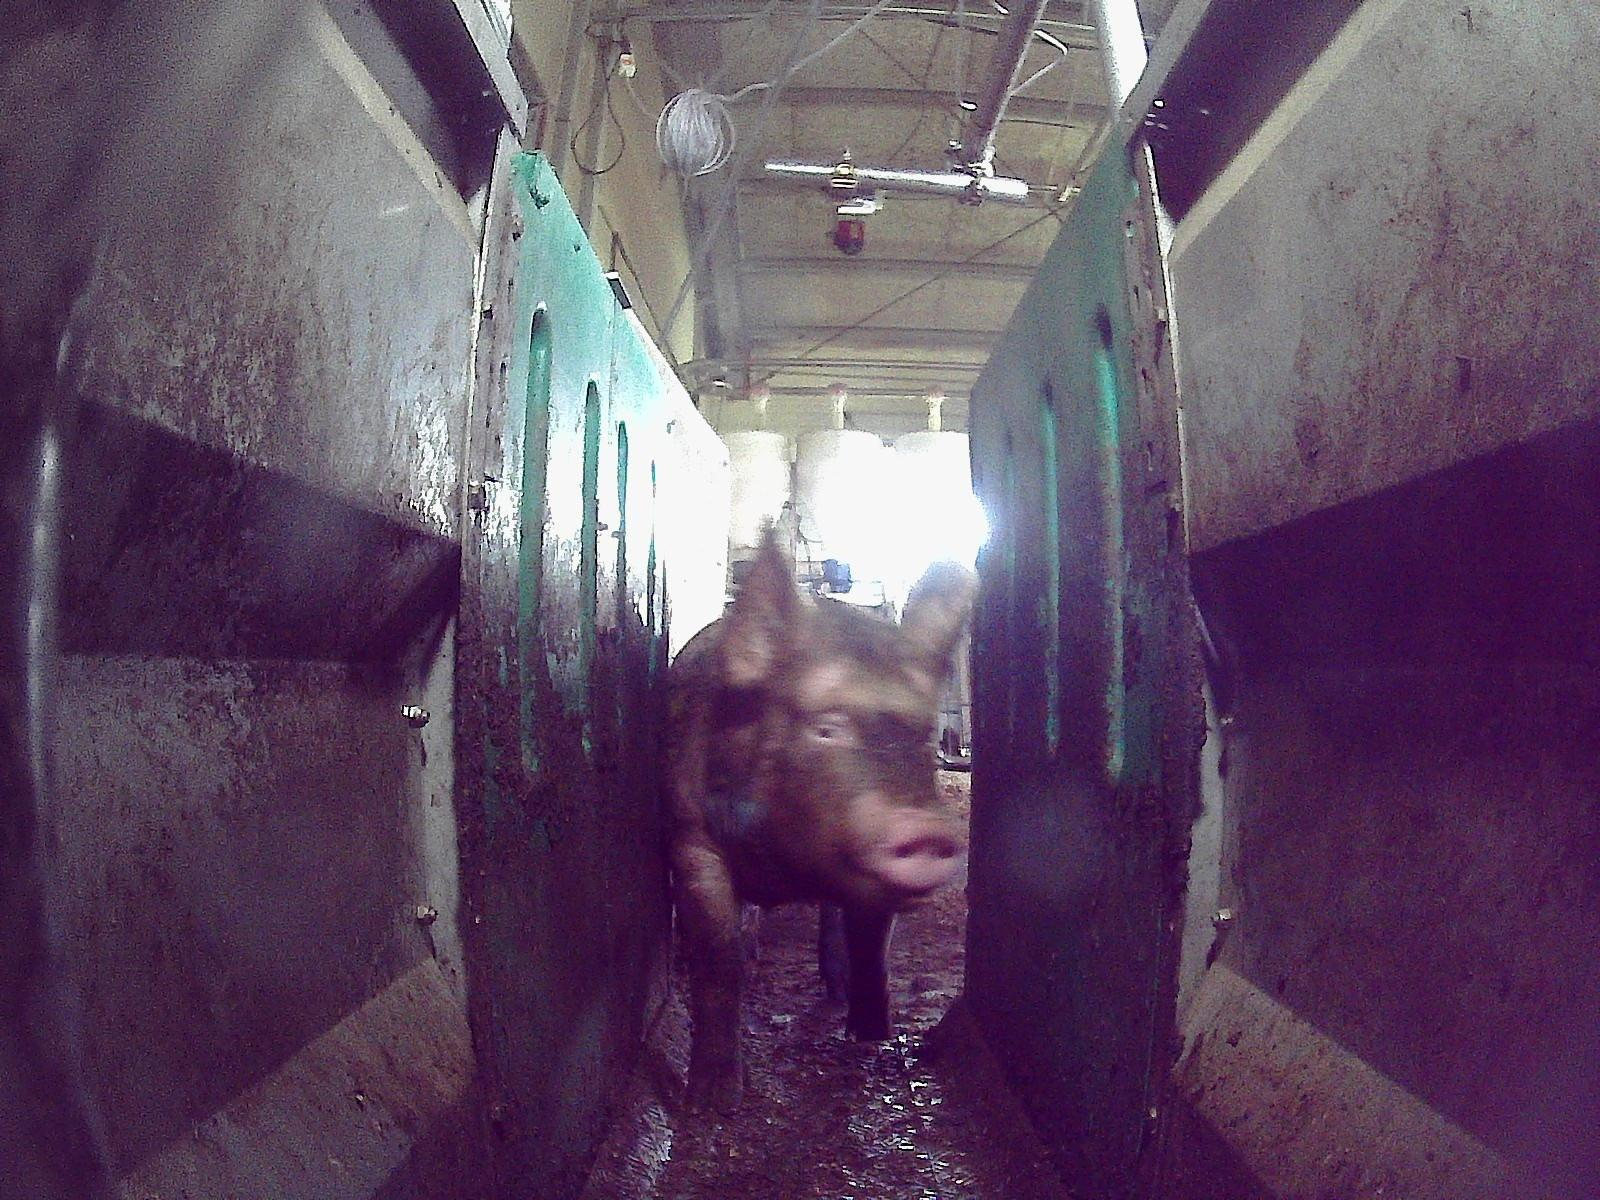Face: (753, 601, 959, 917)
